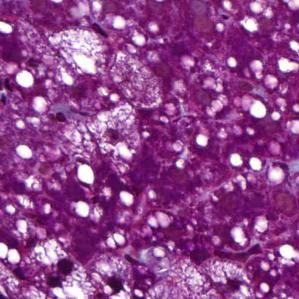ballooning: (47, 26, 113, 75)
